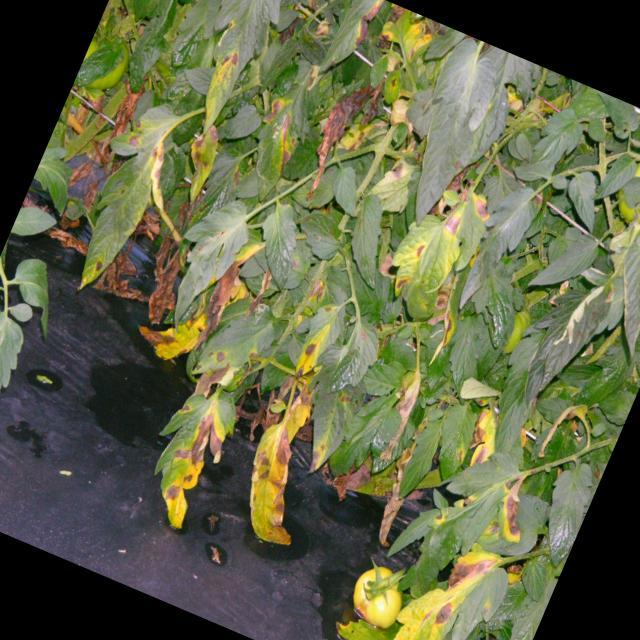Tomato Early blight leaf: (54, 74, 198, 306), (378, 30, 532, 245), (403, 434, 550, 622), (127, 368, 250, 538), (169, 0, 310, 143), (217, 395, 341, 553), (146, 186, 262, 347), (368, 518, 521, 640), (273, 336, 382, 484), (235, 59, 335, 210), (448, 175, 544, 324), (474, 319, 564, 457), (532, 270, 620, 404), (376, 207, 473, 321), (190, 286, 286, 398), (189, 286, 285, 398), (358, 3, 447, 108), (330, 190, 409, 292), (239, 196, 318, 296), (418, 257, 482, 370), (427, 312, 497, 406), (429, 184, 498, 276), (290, 289, 354, 388), (323, 312, 389, 406), (317, 0, 386, 85), (422, 394, 486, 484), (169, 118, 232, 200), (487, 568, 558, 640), (528, 100, 590, 177), (285, 204, 353, 267), (329, 599, 402, 640), (423, 617, 483, 640)
Tomato healthy leaf: (324, 382, 409, 492), (523, 457, 603, 572), (572, 325, 640, 421), (528, 220, 604, 304), (592, 219, 640, 352), (0, 252, 73, 339), (390, 411, 450, 506), (24, 142, 84, 215), (162, 0, 220, 75), (385, 497, 441, 571), (554, 166, 614, 234), (589, 147, 640, 212), (319, 160, 372, 218), (358, 352, 408, 404), (9, 202, 58, 248), (223, 99, 266, 148), (592, 381, 636, 428), (510, 147, 557, 190), (512, 556, 554, 604), (177, 56, 217, 96), (7, 297, 36, 325), (426, 486, 452, 512)
Tomato target spot leaf: (248, 149, 274, 182), (248, 300, 270, 328)
